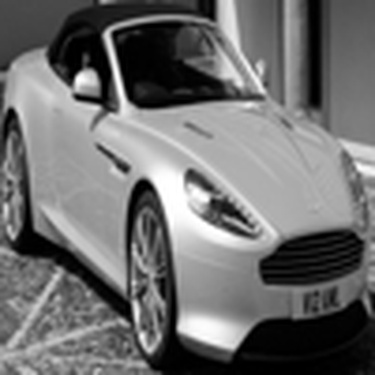car: (5, 3, 372, 370)
